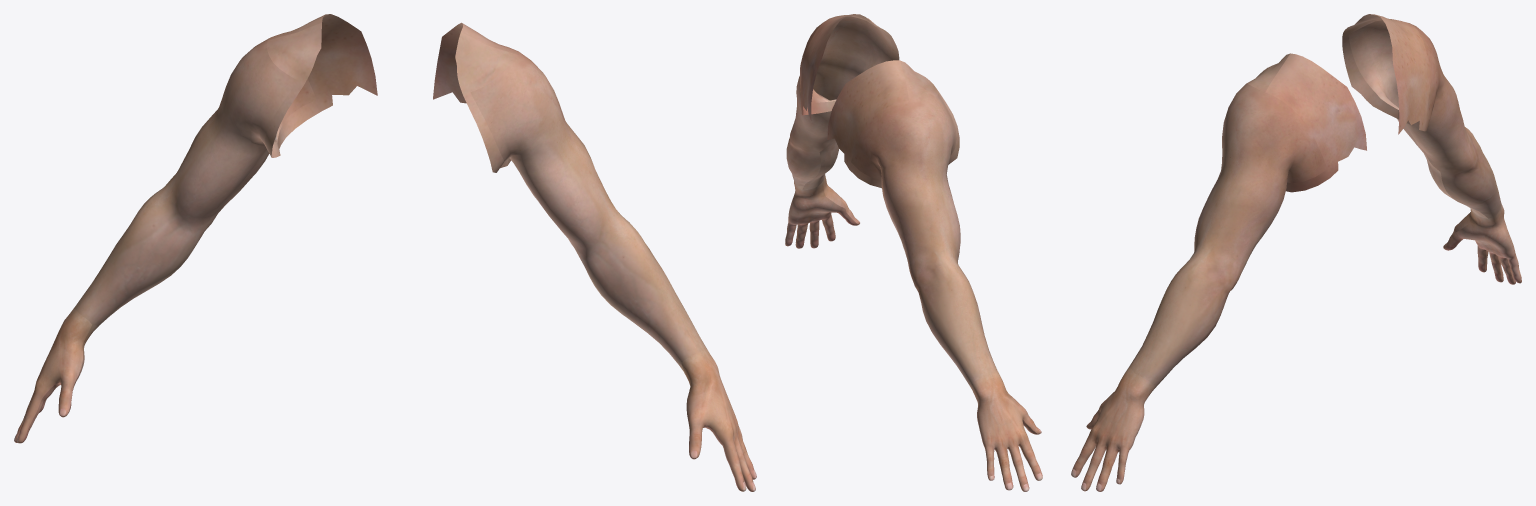
The model's file is Arms.obj.
3 views of the same model, side by side, from view 1: azimuth 30°, elevation 25°; view 2: azimuth 150°, elevation 25°; view 3: azimuth 270°, elevation 25° (orthographic). The views are drawn at different scales.
Parts seen in each view (by area): view 1: Arms; view 2: Arms; view 3: Arms.
Boxes of the visible parts, left/top/right/bottom form: Arms: left=14, top=14, right=756, bottom=491; Arms: left=785, top=14, right=1042, bottom=491; Arms: left=1071, top=14, right=1521, bottom=491.
Bounding box in the file's own units: 34.55 × 26.58 × 29.54.
1 material, 1 textured.
